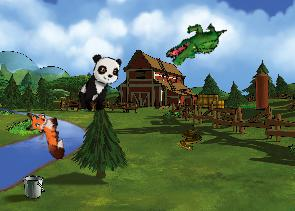crocodile: (163, 9, 228, 78)
fox: (22, 106, 67, 164)
panda: (74, 50, 124, 117)
